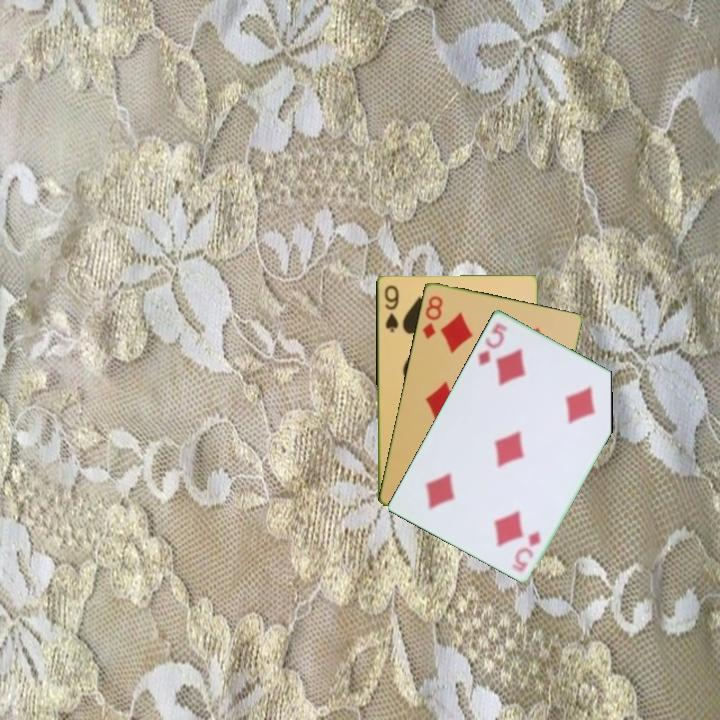5d: (474, 319, 510, 368), (508, 527, 543, 574)
8d: (419, 292, 445, 342)
9s: (381, 282, 401, 335)
